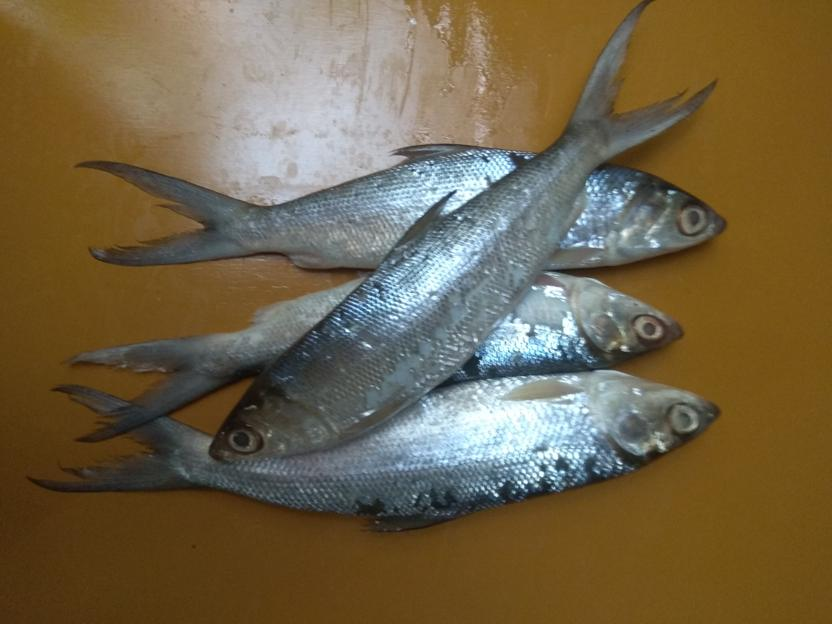Fish head: (596, 367, 723, 469), (208, 383, 342, 467), (612, 176, 729, 267), (571, 281, 684, 366)
Fish tail: (564, 1, 720, 166), (27, 382, 205, 495), (72, 158, 256, 267), (62, 331, 224, 444)
